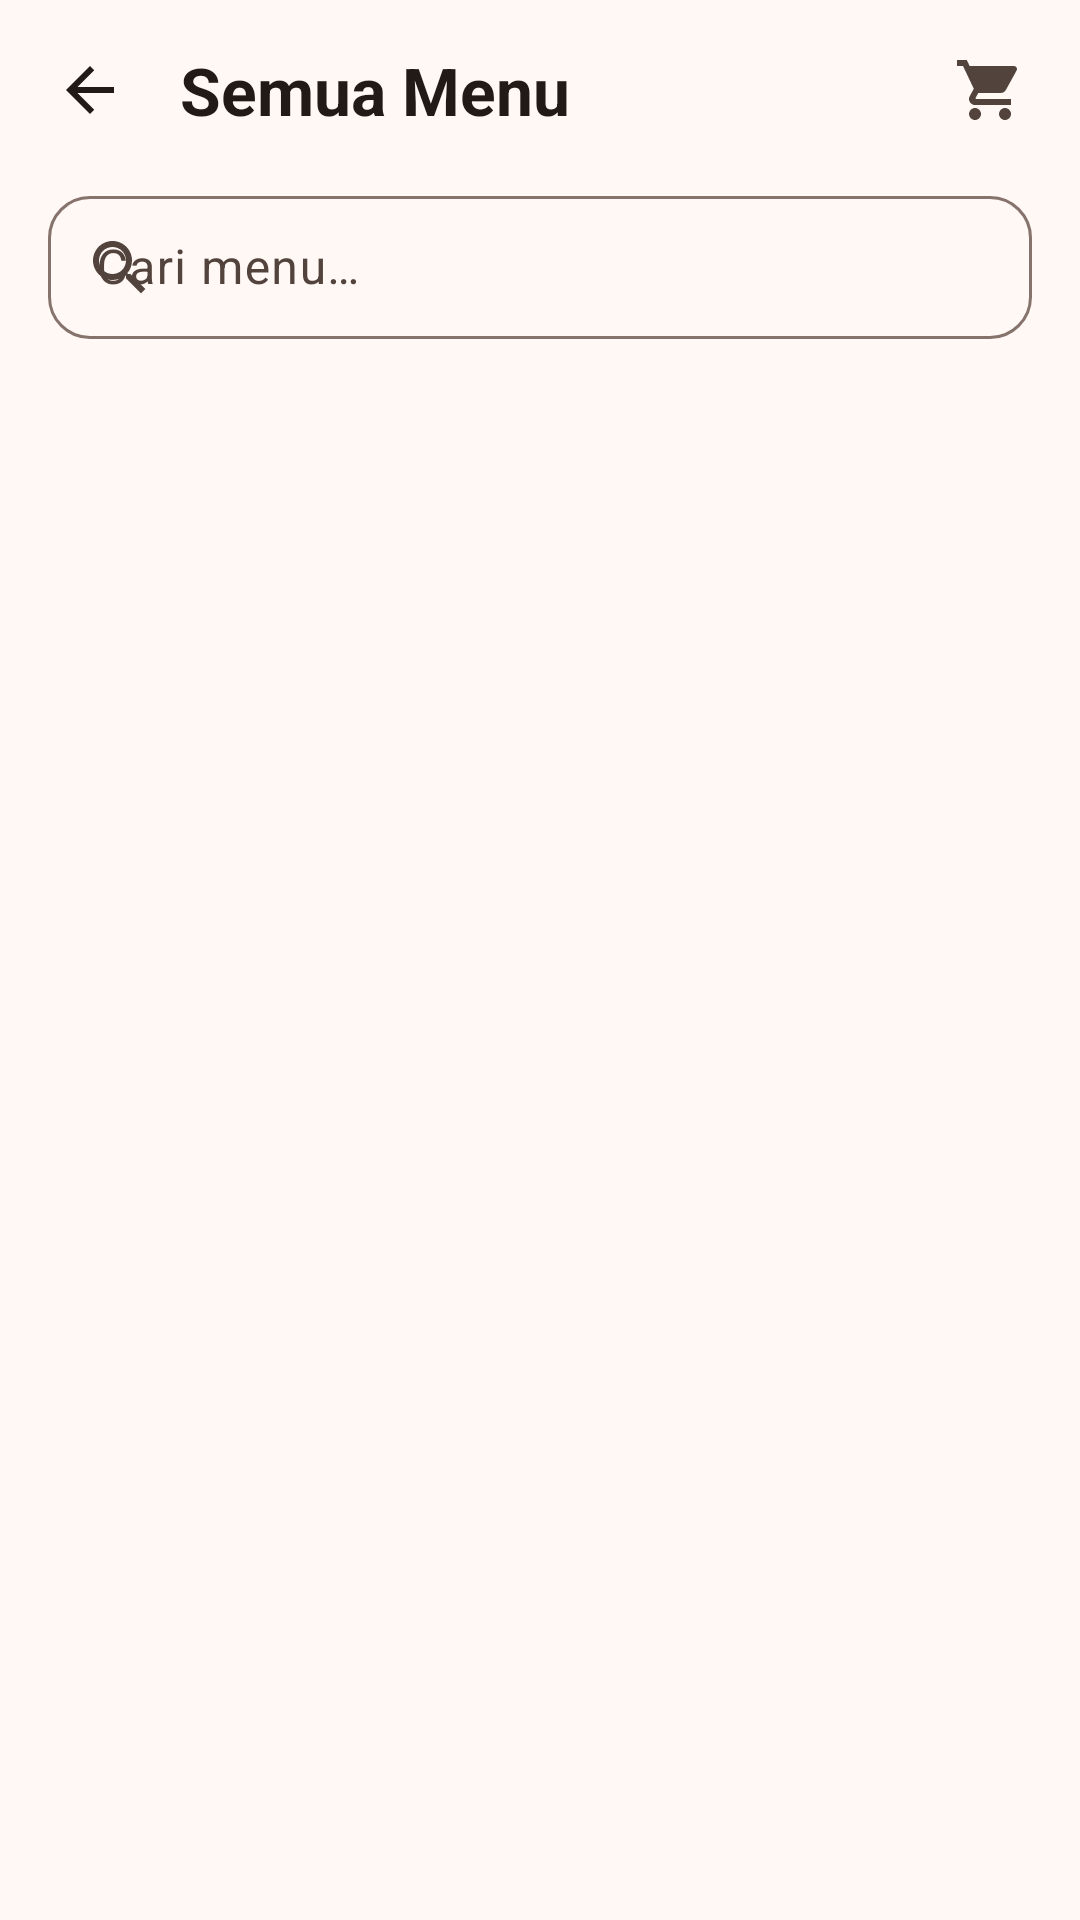

Where icons sit on this 1080 x 1920 app screen, as (left=x1, top=y1, right=x2, bottom=y2):
Keranjang: (left=957, top=60, right=1017, bottom=120)
